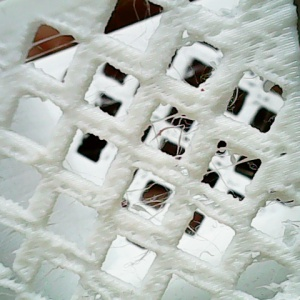3dpstringing: (202, 140, 260, 201), (124, 176, 178, 224), (146, 109, 193, 161), (182, 219, 234, 263), (104, 241, 160, 275), (124, 3, 161, 52), (40, 198, 86, 237), (223, 68, 257, 120), (263, 196, 296, 242), (30, 257, 67, 295), (21, 34, 77, 59), (62, 156, 107, 182), (169, 61, 194, 90)
3dpunderextrusion: (234, 20, 287, 71), (255, 135, 299, 193)
